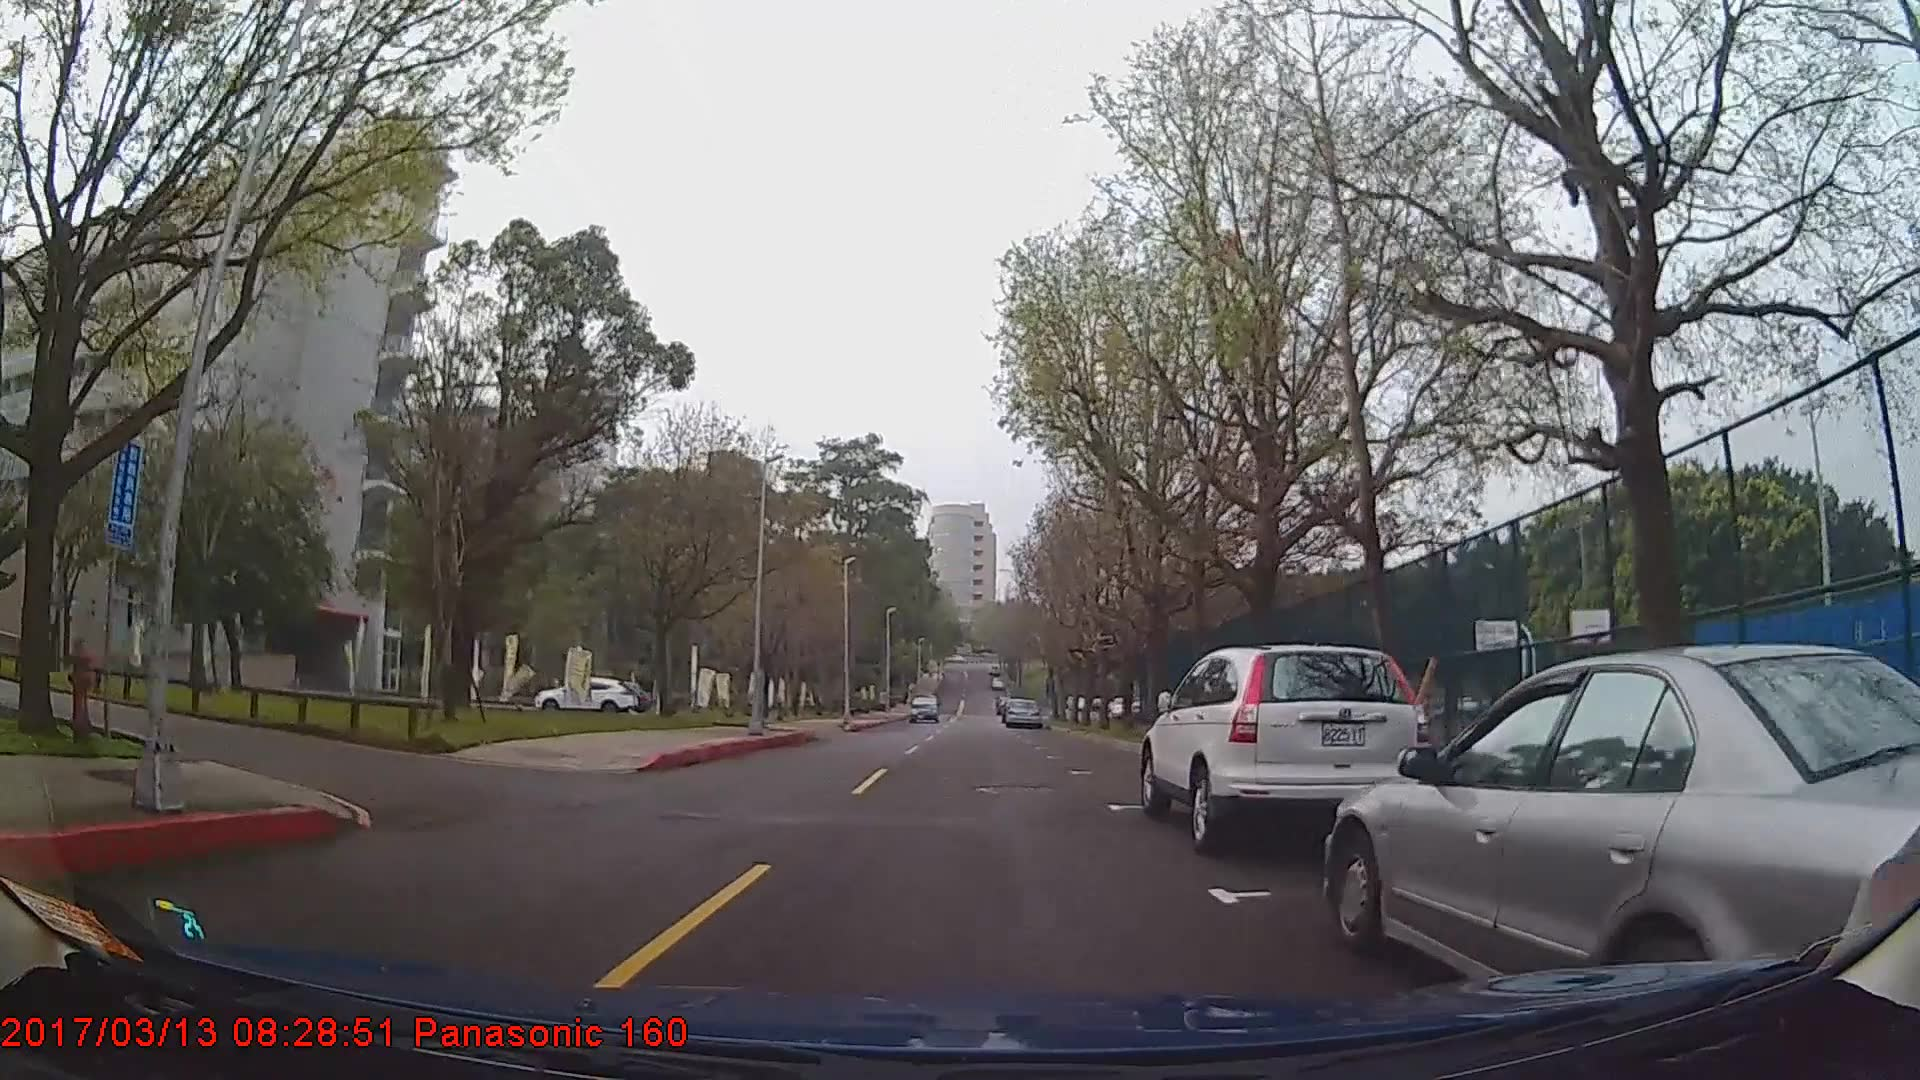vehicle: (1327, 640, 1920, 1015), (1138, 646, 1433, 857), (531, 676, 640, 715), (1002, 698, 1040, 729), (905, 692, 940, 723)
